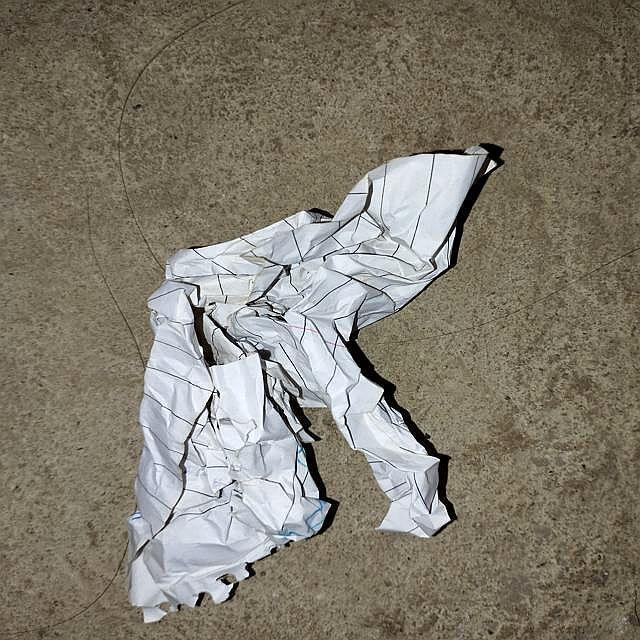Biodegradable: (135, 139, 485, 623)
